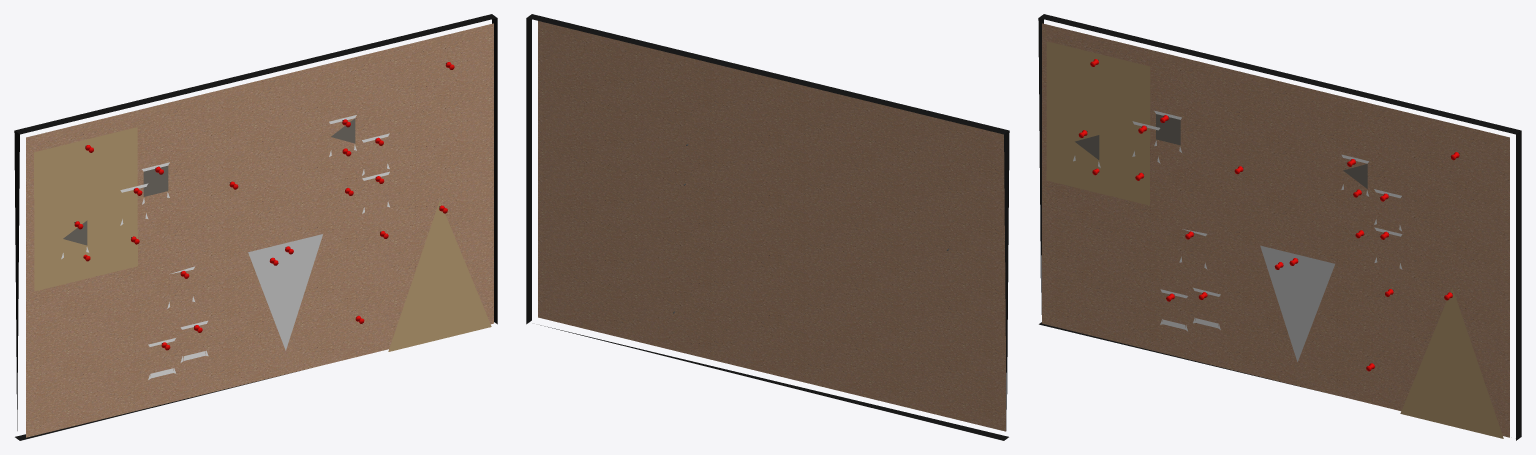
3 renders of one model, left to right at view 1: azimuth 30°, elevation 25°; view 2: azimuth 150°, elevation 25°; view 3: azimuth 330°, elevation 25°, orthographic.
Visible parts, largest first — view 1: BoardGeo.012_4; view 2: BoardGeo.012_4; view 3: BoardGeo.012_4.
Boxes of the visible parts, left/top/right/bottom form: BoardGeo.012_4: left=14, top=14, right=497, bottom=440; BoardGeo.012_4: left=526, top=14, right=1009, bottom=440; BoardGeo.012_4: left=1038, top=14, right=1521, bottom=440.
Bounding box in the file's own units: 1 × 0.6132 × 0.0535.
Materials: 9 (5 with a texture image).
